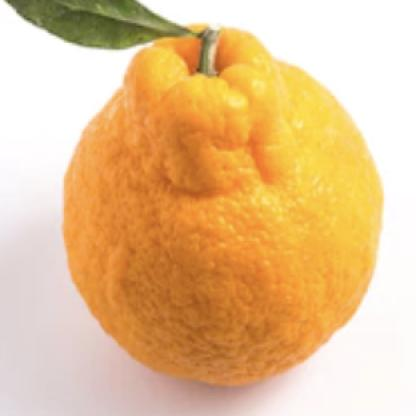fresh: (63, 25, 382, 383)
